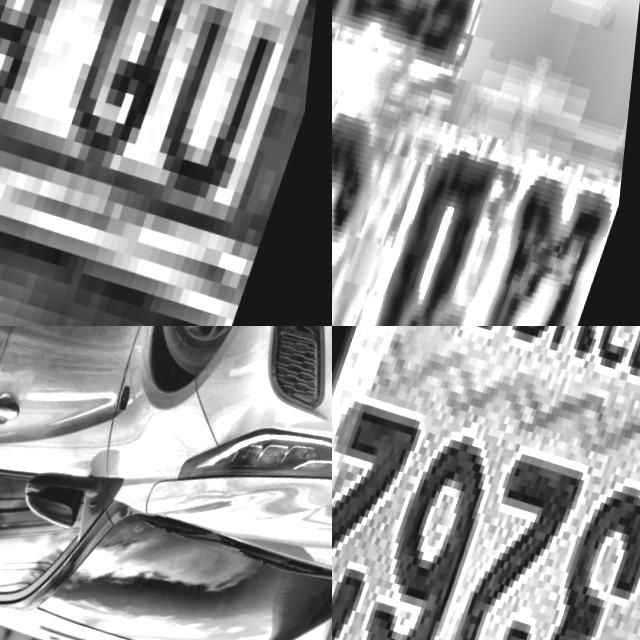license-plate: (0, 0, 332, 326), (332, 0, 640, 326), (332, 326, 640, 640)
